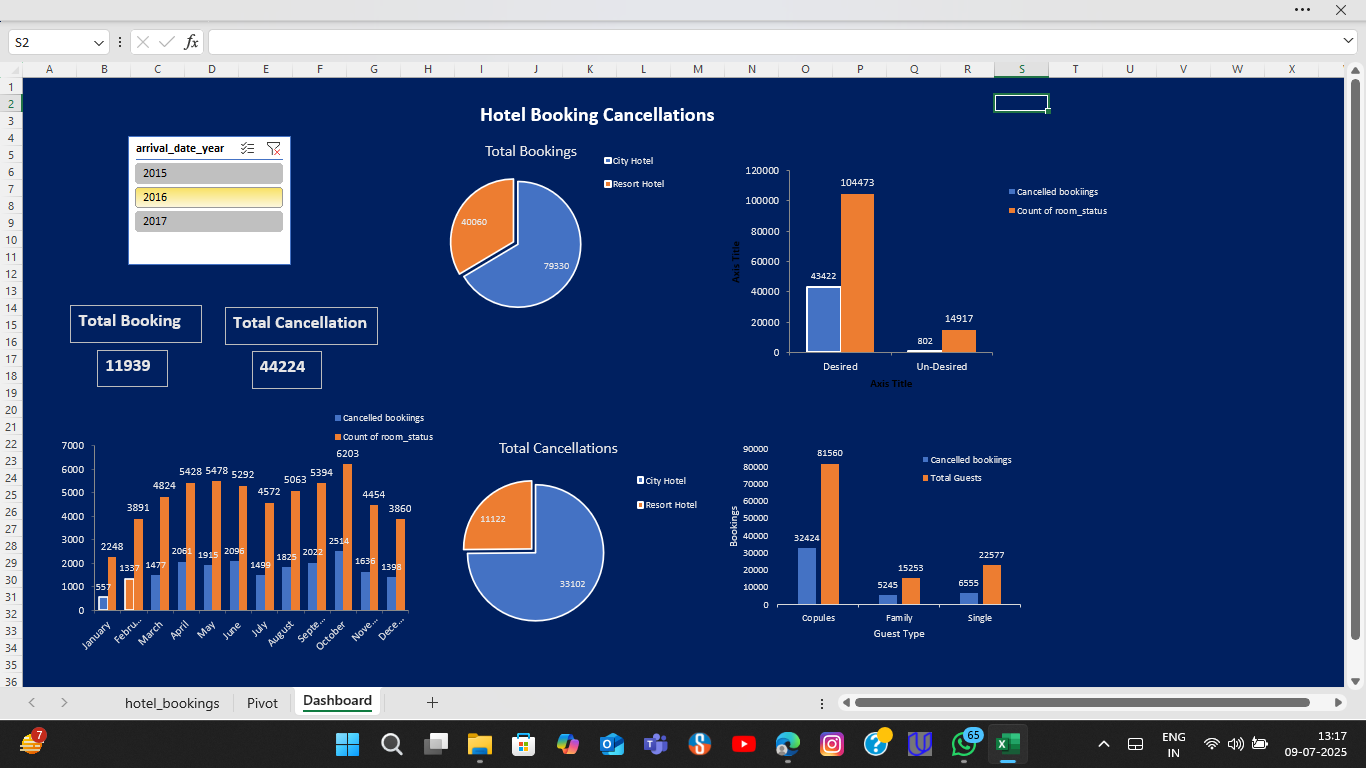

This screenshot's page, from the dashboard's own definition file:
{"tool":"powerbi","page":{"name":"Page 1","canvas":[1280,720],"ordinal":0},"visuals":[{"type":"pieChart","fields":{"Category":["hotel_bookings.hotel"],"Y":["Sum(hotel_bookings.is_canceled)"]},"box":[10,10.5,431.2,350],"z":0},{"type":"clusteredColumnChart","fields":{"Category":["hotel_bookings.guest_type","hotel_bookings.Status_of_room_alloted"],"Y":["Sum(hotel_bookings.adults)"]},"box":[10.5,360.6,546.9,279.4],"z":1000},{"type":"clusteredColumnChart","title":"Reserverd Room vs Assigned Room","fields":{"Category":["hotel_bookings.hotel","hotel_bookings.Status_of_room_alloted"],"Y":["CountNonNull(hotel_bookings.Status_of_room_alloted)"]},"box":[463.6,0,463.6,349.4],"z":2000},{"type":"clusteredColumnChart","fields":{"Category":["hotel_bookings.arrival_date_month","hotel_bookings.room_status"],"Y":["Sum(hotel_bookings.is_canceled)"]},"box":[557.6,349.8,722.9,348.3],"z":3000},{"type":"slicer","fields":{"Values":["hotel_bookings.arrival_date_year"]},"box":[957.1,43.9,276.6,283.9],"z":3001}]}

Visuals, with their boxes on the page's 1280x720 design canvas (x1, y1, x2, y2). These are canvas units, not pixel positions in the 1366x768 screenshot, which may show the page scaled, cropped or inside an application window:
pieChart - hotel_bookings.hotel x Sum(hotel_bookings.is_canceled): l=10, t=10, r=441, b=360
clusteredColumnChart - hotel_bookings.guest_type x hotel_bookings.Status_of_room_alloted: l=10, t=361, r=557, b=640
"Reserverd Room vs Assigned Room" clusteredColumnChart: l=464, t=0, r=927, b=349
clusteredColumnChart - hotel_bookings.arrival_date_month x hotel_bookings.room_status: l=558, t=350, r=1280, b=698
slicer - hotel_bookings.arrival_date_year: l=957, t=44, r=1234, b=328
